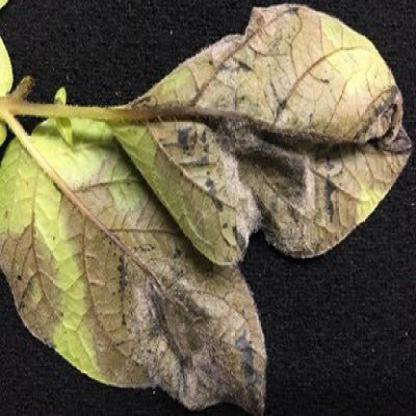potato leaf late blight: (1, 97, 271, 415), (115, 3, 413, 272)
